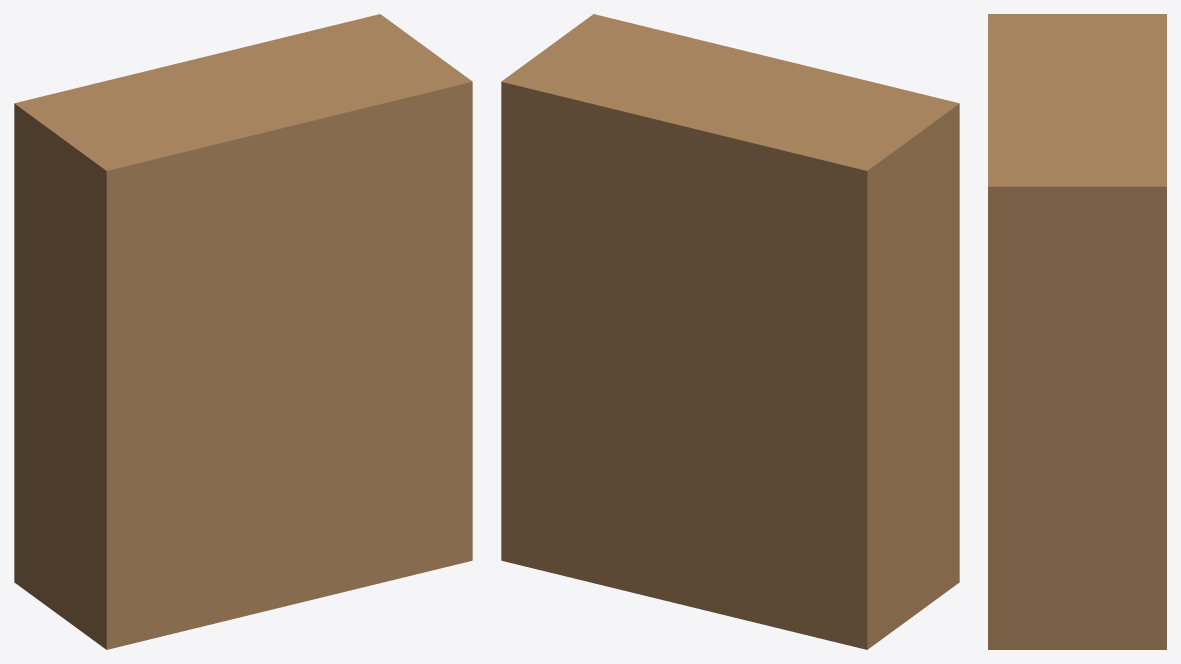
File: shoe-cabinet-01.glb
3 renders of one model, left to right at view 1: azimuth 30°, elevation 25°; view 2: azimuth 150°, elevation 25°; view 3: azimuth 270°, elevation 25°, orthographic. The views are drawn at different scales.
Bounding box in the file's own units: 0.8 × 1 × 0.35.
